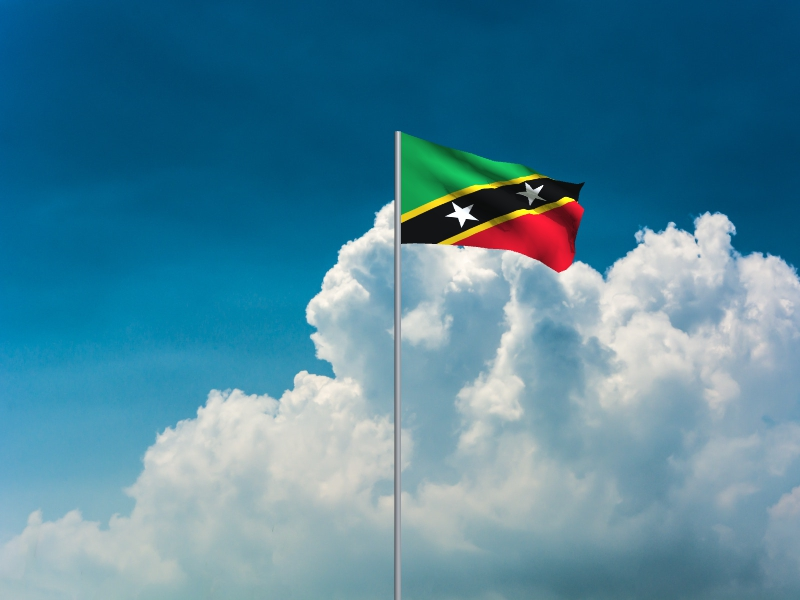kn: (402, 133, 586, 275)
